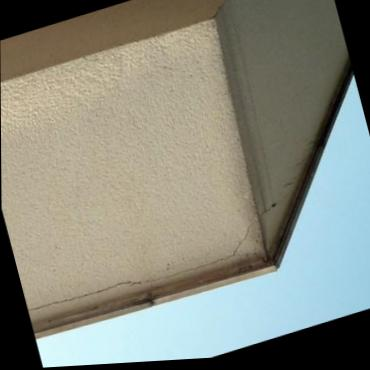crack: (28, 229, 267, 312), (259, 143, 316, 219)
